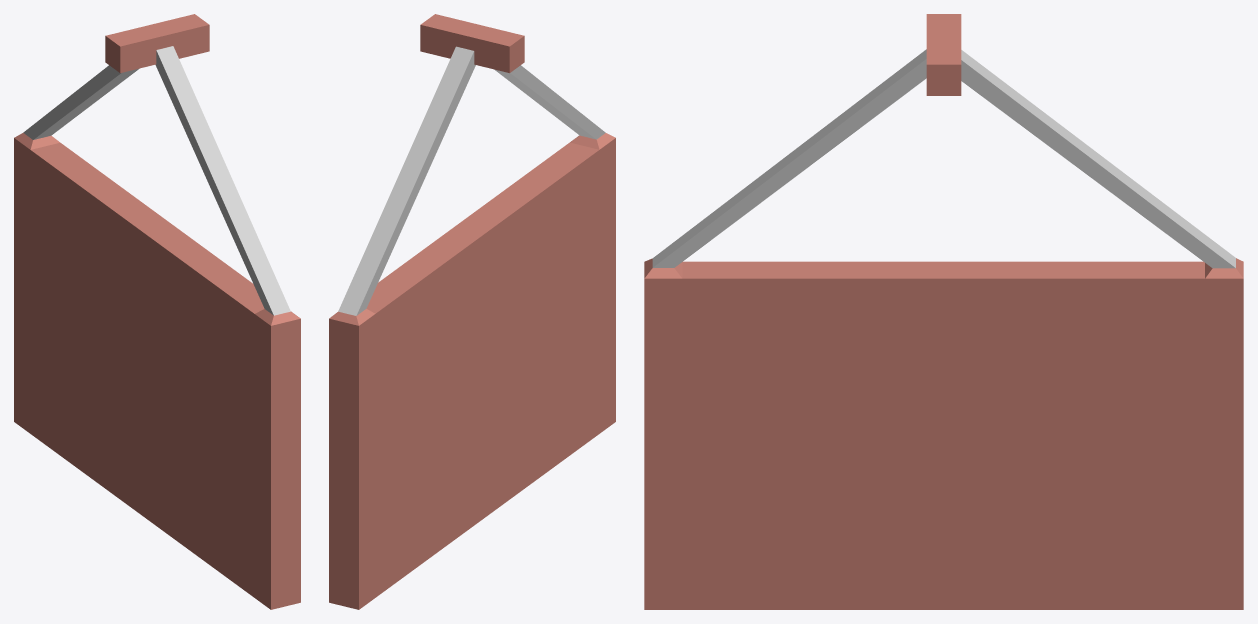
Rendered from sign.fbx.
The picture shows the model from 3 angles, left to right: view 1: azimuth 30°, elevation 25°; view 2: azimuth 150°, elevation 25°; view 3: azimuth 270°, elevation 25°; orthographic projection. The views are drawn at different scales.
Visible parts, largest first — view 1: Cube; view 2: Cube; view 3: Cube.
Part boxes in pixels (x1=…): Cube: x1=14, y1=14, x2=300, y2=609; Cube: x1=329, y1=14, x2=615, y2=609; Cube: x1=644, y1=14, x2=1243, y2=609.
Bounding box in the file's own units: 40.14 × 207 × 200.
